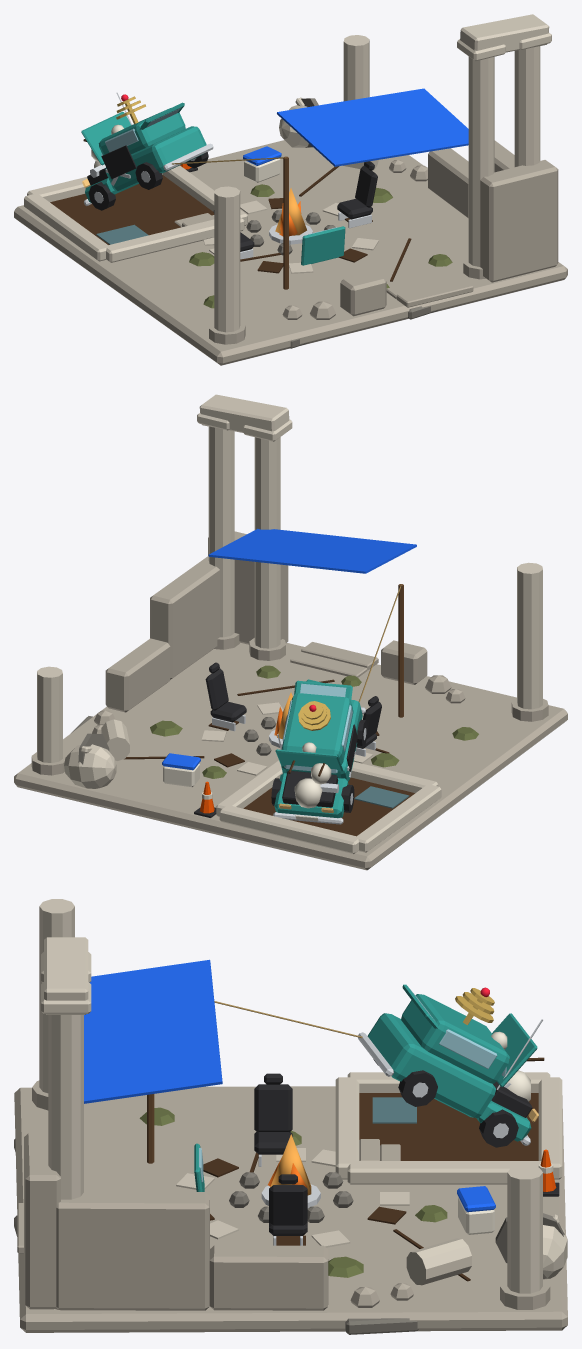
Rendered from hearth_l1.fbx.
3 renders of one model, top to bottom at view 1: azimuth 30°, elevation 25°; view 2: azimuth 150°, elevation 25°; view 3: azimuth 270°, elevation 25°, orthographic. The views are drawn at different scales.
Parts seen in each view (by area): view 1: Ruin, TimeMachine, BonnetUp, Fire; view 2: Ruin, TimeMachine, Steam, BonnetUp, BootOpen; view 3: Ruin, TimeMachine, BonnetUp, Fire, Steam.
Part boxes in pixels (left/top/right/bottom): Ruin: left=14, top=14, right=567, bottom=365; TimeMachine: left=82, top=92, right=213, bottom=210; BonnetUp: left=81, top=111, right=130, bottom=165; Fire: left=275, top=188, right=306, bottom=236; Ruin: left=14, top=394, right=567, bottom=870; TimeMachine: left=271, top=693, right=367, bottom=824; Steam: left=294, top=742, right=331, bottom=808; BonnetUp: left=275, top=749, right=343, bottom=771; BootOpen: left=294, top=680, right=352, bottom=700; Ruin: left=14, top=899, right=567, bottom=1334; TimeMachine: left=358, top=987, right=544, bottom=1147; BonnetUp: left=492, top=1013, right=537, bottom=1086; Fire: left=268, top=1134, right=311, bottom=1195; Steam: left=491, top=1031, right=530, bottom=1101.
Size of the model in its own units: 3.77 by 3.74 by 2.56.
